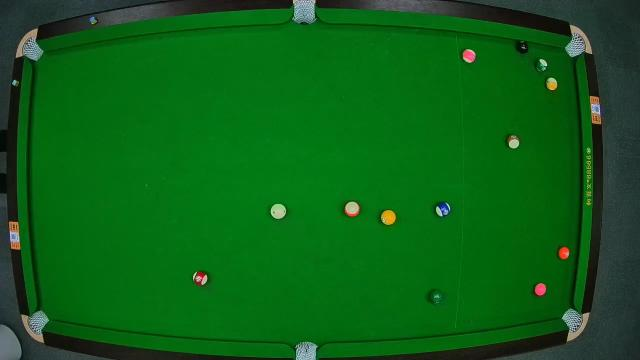bag1: (22, 38, 44, 60)
bag2: (291, 0, 317, 26)
bag3: (566, 29, 588, 57)
bag4: (29, 310, 49, 334)
bag5: (294, 340, 318, 360)
bag6: (563, 308, 585, 332)
ball0: (270, 203, 286, 219)
ball1: (380, 210, 396, 226)
ball10: (435, 202, 451, 218)
ball11: (193, 271, 207, 285)
ball12: (462, 48, 474, 64)
ball13: (344, 200, 361, 218)
ball14: (536, 59, 548, 73)
ball15: (508, 134, 520, 150)
ball4: (534, 283, 548, 297)
ball5: (558, 246, 570, 262)
ball6: (428, 290, 444, 304)
ball8: (514, 40, 530, 56)
ball9: (546, 77, 558, 91)
